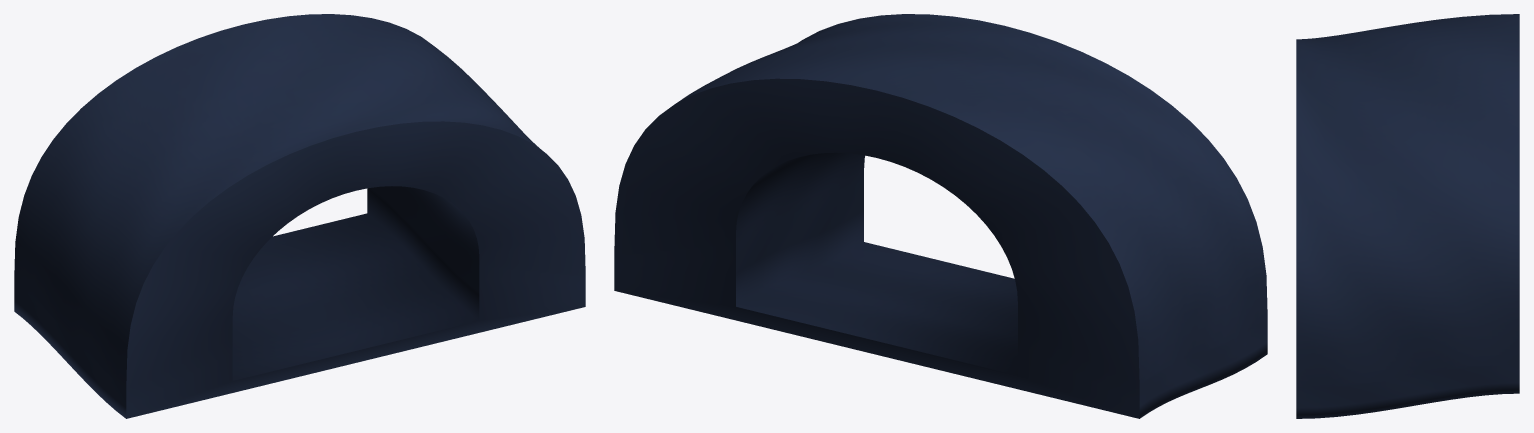
File: grade_up_terrain.glb
3 renders of one model, left to right at view 1: azimuth 30°, elevation 25°; view 2: azimuth 150°, elevation 25°; view 3: azimuth 270°, elevation 25°, orthographic. The views are drawn at different scales.
Parts seen in each view (by area): view 1: TerrainRoof.012; view 2: TerrainRoof.012; view 3: TerrainRoof.012.
Part boxes in pixels (x1,y1,x2,y2): TerrainRoof.012: (14, 14, 585, 418); TerrainRoof.012: (614, 14, 1267, 418); TerrainRoof.012: (1296, 14, 1519, 418).
Size of the model in its own units: 28.4 by 15.15 by 12.
